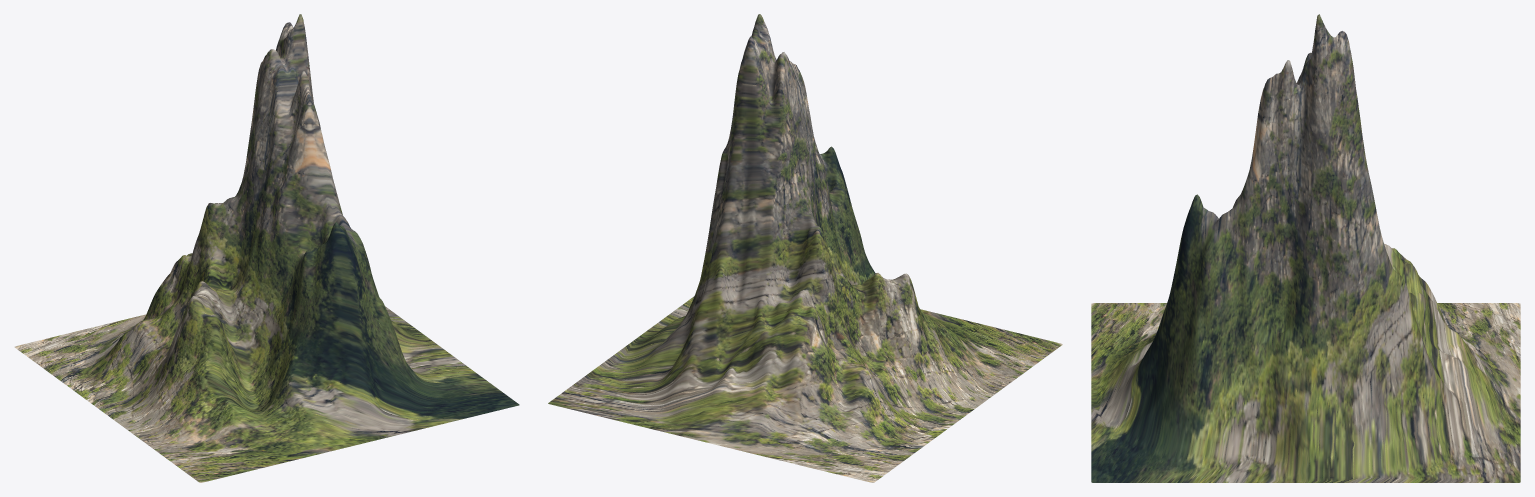
The model's file is floor_Mountain.dae.
The picture shows the model from 3 angles, left to right: view 1: azimuth 30°, elevation 25°; view 2: azimuth 150°, elevation 25°; view 3: azimuth 270°, elevation 25°; orthographic projection. The views are drawn at different scales.
Visible parts, largest first — view 1: Landscape; view 2: Landscape; view 3: Landscape.
Part boxes in pixels (bbox=[...]): Landscape: bbox=[14, 14, 519, 482]; Landscape: bbox=[548, 14, 1062, 482]; Landscape: bbox=[1091, 14, 1520, 482].
Bounding box in the file's own units: 337 × 341 × 351.
Materials: 1 (1 with a texture image).
